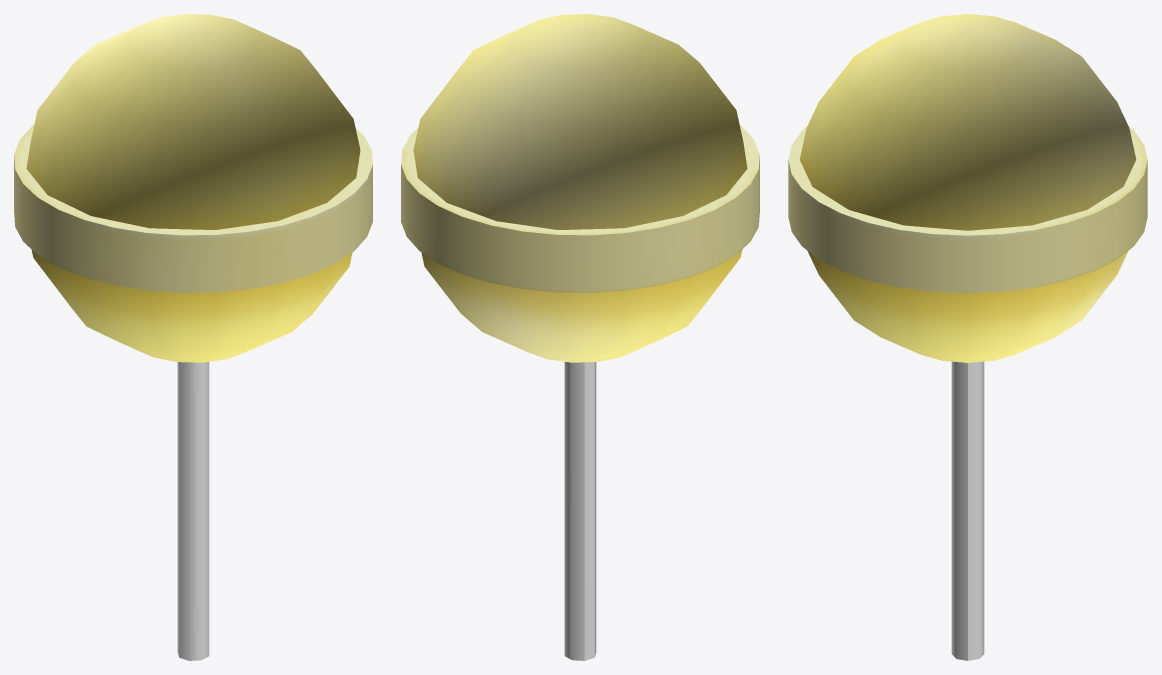
Rendered from Candy.FBX.
3 views of the same model, side by side, from view 1: azimuth 30°, elevation 25°; view 2: azimuth 150°, elevation 25°; view 3: azimuth 270°, elevation 25° (orthographic).
Visible parts, largest first — view 1: obj1; view 2: obj1; view 3: obj1.
Part boxes in pixels (x1,y1,x2,y2): obj1: (14,14,372,660); obj1: (401,14,759,660); obj1: (788,14,1147,660).
Size of the model in its own units: 85.21 by 163 by 85.21.
